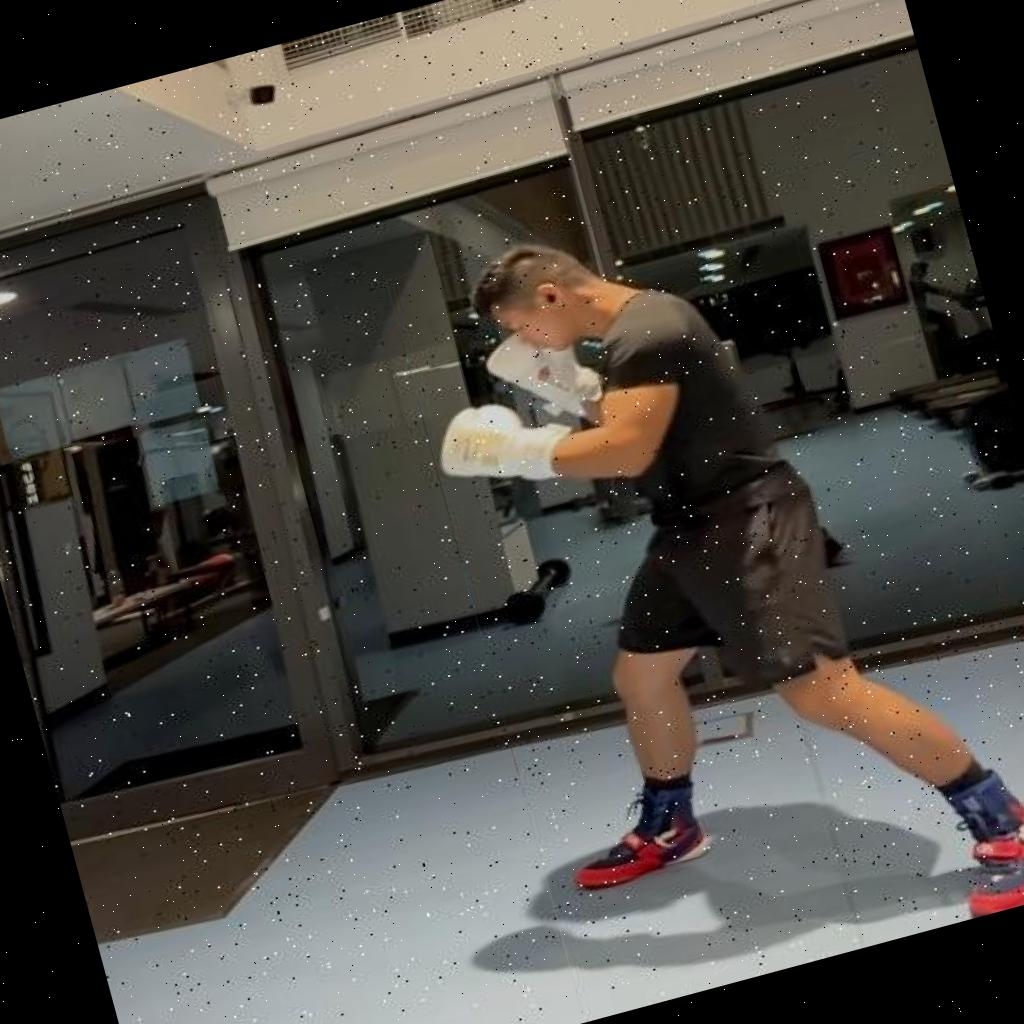uppercut: (385, 147, 1024, 1022)
